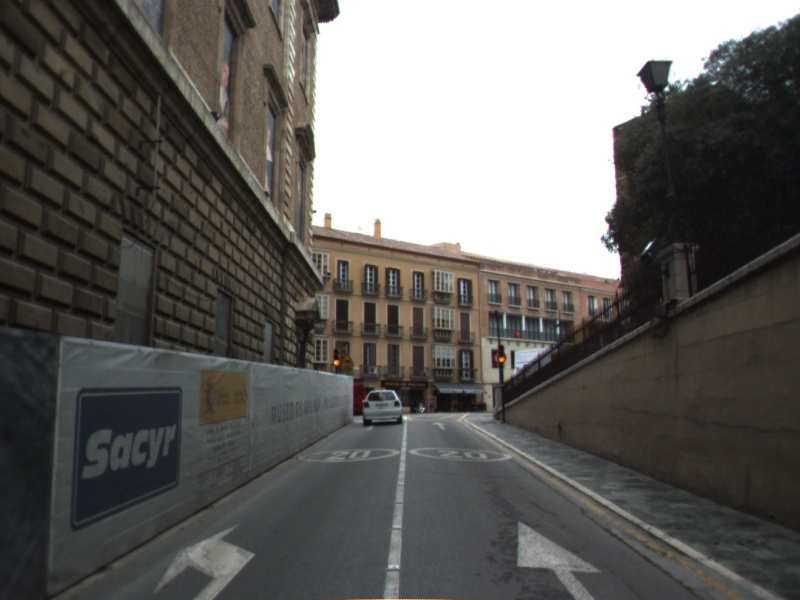LEFT: (152, 522, 256, 600)
STRAIGHT: (515, 518, 603, 600), (429, 420, 448, 431)
